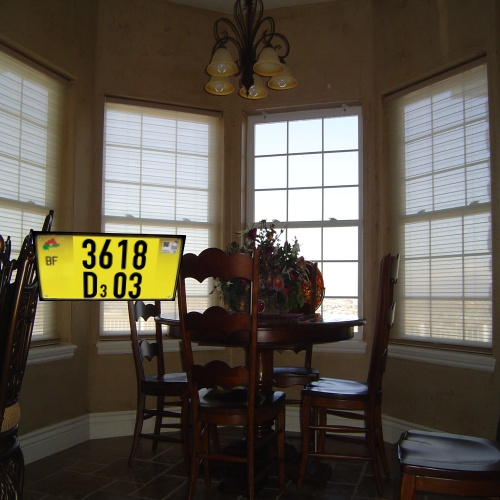plate: (23, 219, 201, 318)
